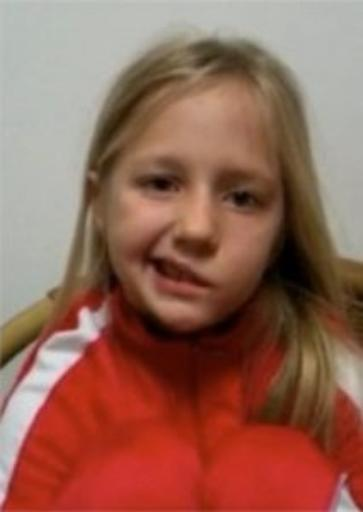left_eye: (221, 190, 265, 213)
left_lip_corner: (202, 273, 225, 295)
right_eye: (138, 175, 181, 197)
right_lip_corner: (139, 251, 159, 274)
